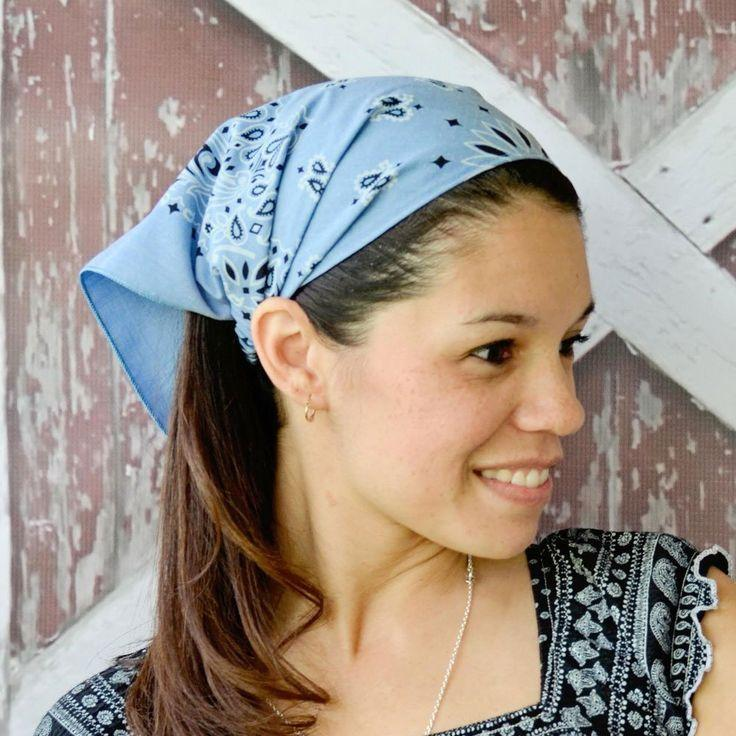cap: (90, 64, 574, 340)
